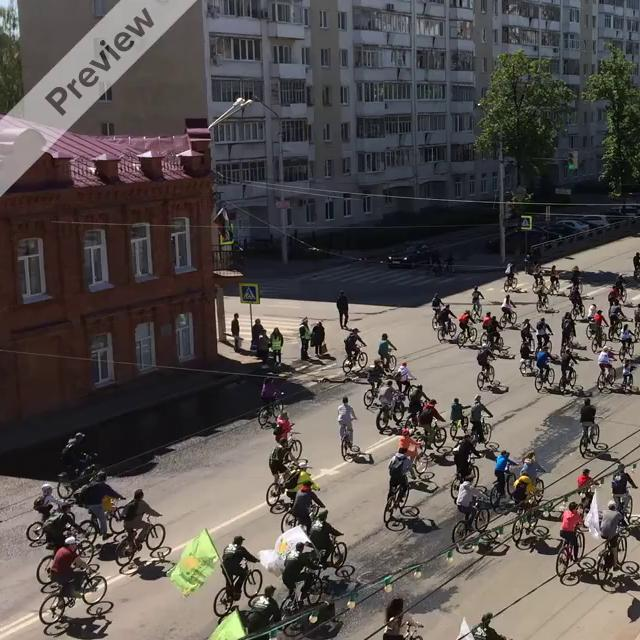bicycle: (39, 563, 108, 625), (74, 493, 133, 550), (213, 558, 262, 617), (114, 517, 166, 568), (451, 490, 492, 552), (279, 564, 326, 615), (266, 458, 311, 507), (594, 524, 628, 585), (511, 497, 549, 549), (555, 523, 589, 579), (383, 479, 420, 530), (450, 455, 481, 500), (415, 415, 448, 455), (280, 501, 320, 533), (375, 393, 405, 433), (254, 387, 281, 424), (279, 431, 302, 462), (342, 344, 367, 372), (340, 427, 360, 461), (468, 416, 491, 445), (579, 422, 600, 453), (363, 377, 383, 407), (597, 363, 617, 393), (449, 410, 469, 439), (534, 364, 554, 391), (559, 363, 577, 393), (477, 362, 496, 390), (456, 322, 477, 347), (436, 317, 456, 342), (519, 353, 536, 376), (379, 351, 396, 373), (499, 309, 517, 329)
